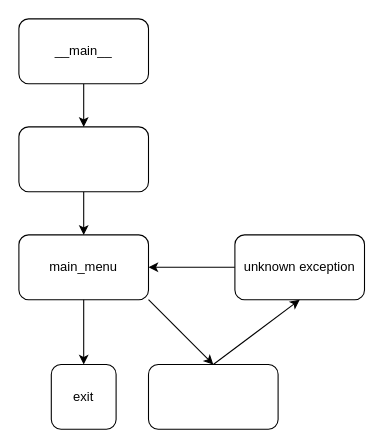
Image size: 383x448. Some labels were removed from this diagram. The shapes that lost their labels are listed below. From the top down, each one's box as (x1, y1, x2, y2) in pixels, then its label:
(18, 126, 148, 192): start_check
(147, 363, 278, 429): menu functions
